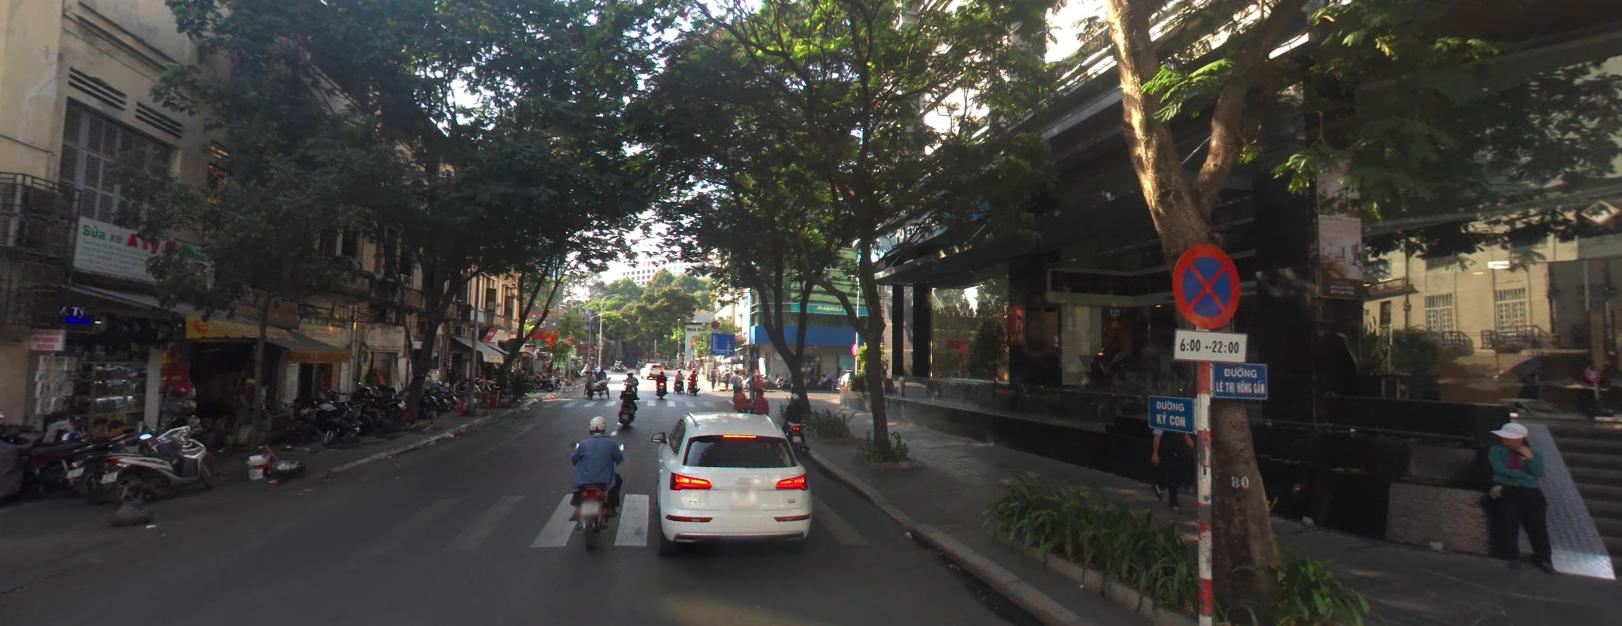Cam dung va do: (1173, 242, 1242, 327), (711, 319, 719, 327), (851, 341, 857, 353)
